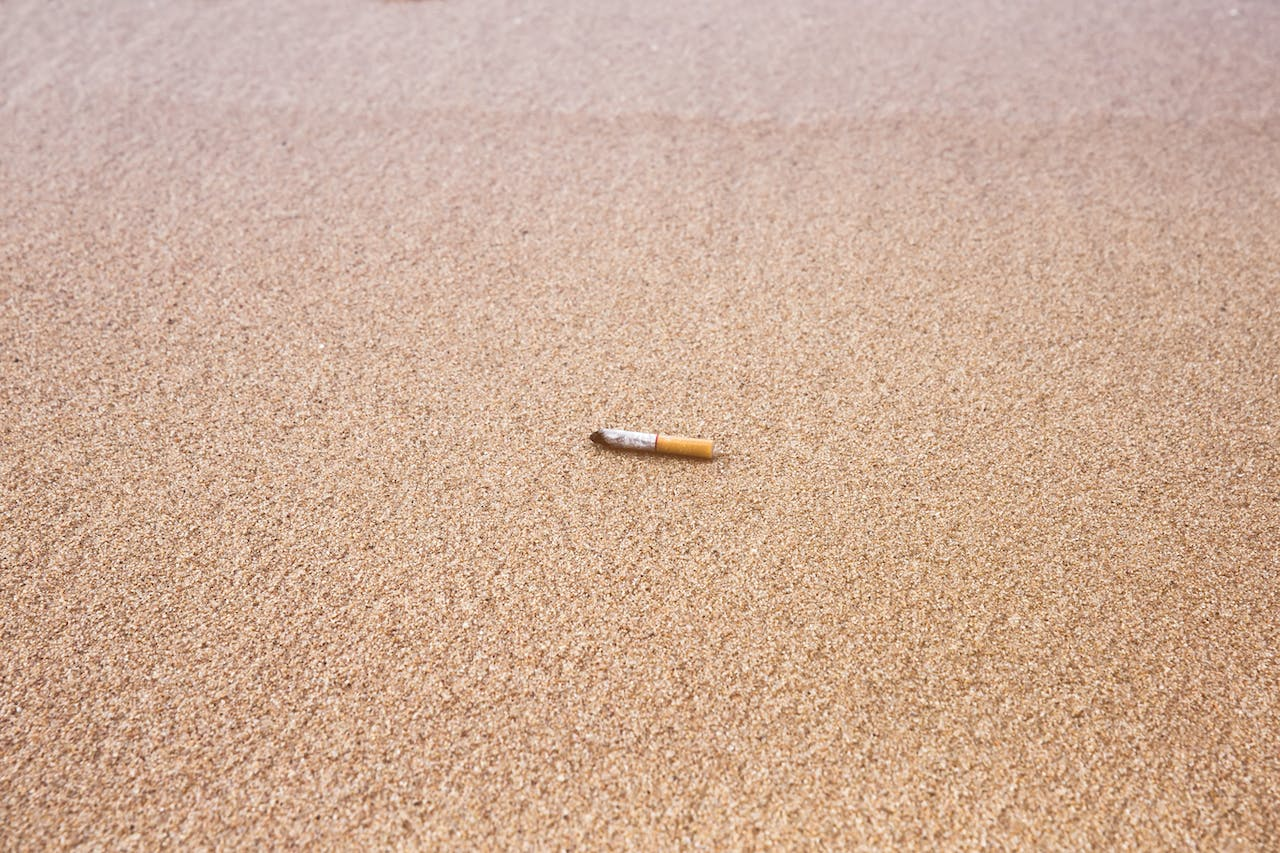Cigarette: (586, 426, 717, 463)
